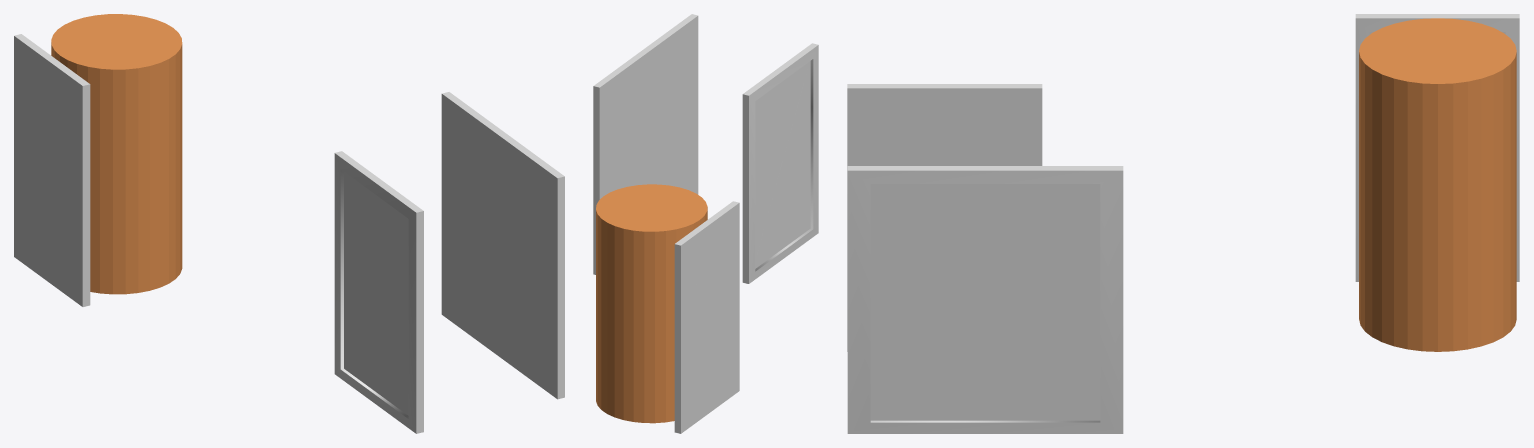
The model's file is BackFloor0.fbx.
The picture shows the model from 3 angles, left to right: view 1: azimuth 30°, elevation 25°; view 2: azimuth 150°, elevation 25°; view 3: azimuth 270°, elevation 25°; orthographic projection. The views are drawn at different scales.
Parts seen in each view (by area): view 1: Cube.060, Cylinder.001, Cube.057, Cube.058; view 2: Cylinder.001, Cube.060, Cube.057, Cube.058; view 3: Cube.060, Cylinder.001, Cube.057, Cube.058.
Boxes of the visible parts, x1=… form: Cube.060: x1=441, y1=92, x2=564, y2=399; Cylinder.001: x1=51, y1=14, x2=182, y2=294; Cube.057: x1=334, y1=151, x2=423, y2=433; Cube.058: x1=14, y1=34, x2=90, y2=306; Cylinder.001: x1=596, y1=184, x2=707, y2=423; Cube.060: x1=593, y1=14, x2=698, y2=274; Cube.057: x1=742, y1=43, x2=818, y2=283; Cube.058: x1=674, y1=201, x2=739, y2=433; Cube.060: x1=847, y1=166, x2=1123, y2=433; Cylinder.001: x1=1359, y1=18, x2=1516, y2=351; Cube.057: x1=847, y1=84, x2=1042, y2=351; Cube.058: x1=1355, y1=14, x2=1519, y2=281.
Size of the model in its own units: 1224 by 974 by 2216.
